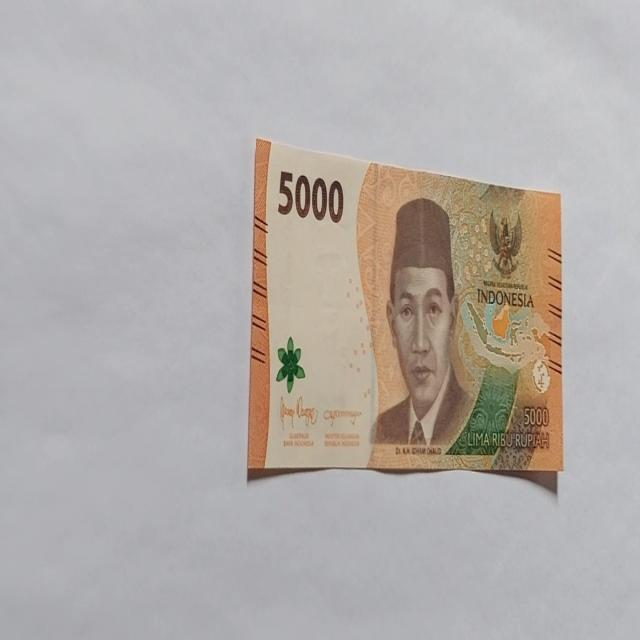lima ribu rupiah: (246, 136, 564, 486), (370, 195, 472, 452)
